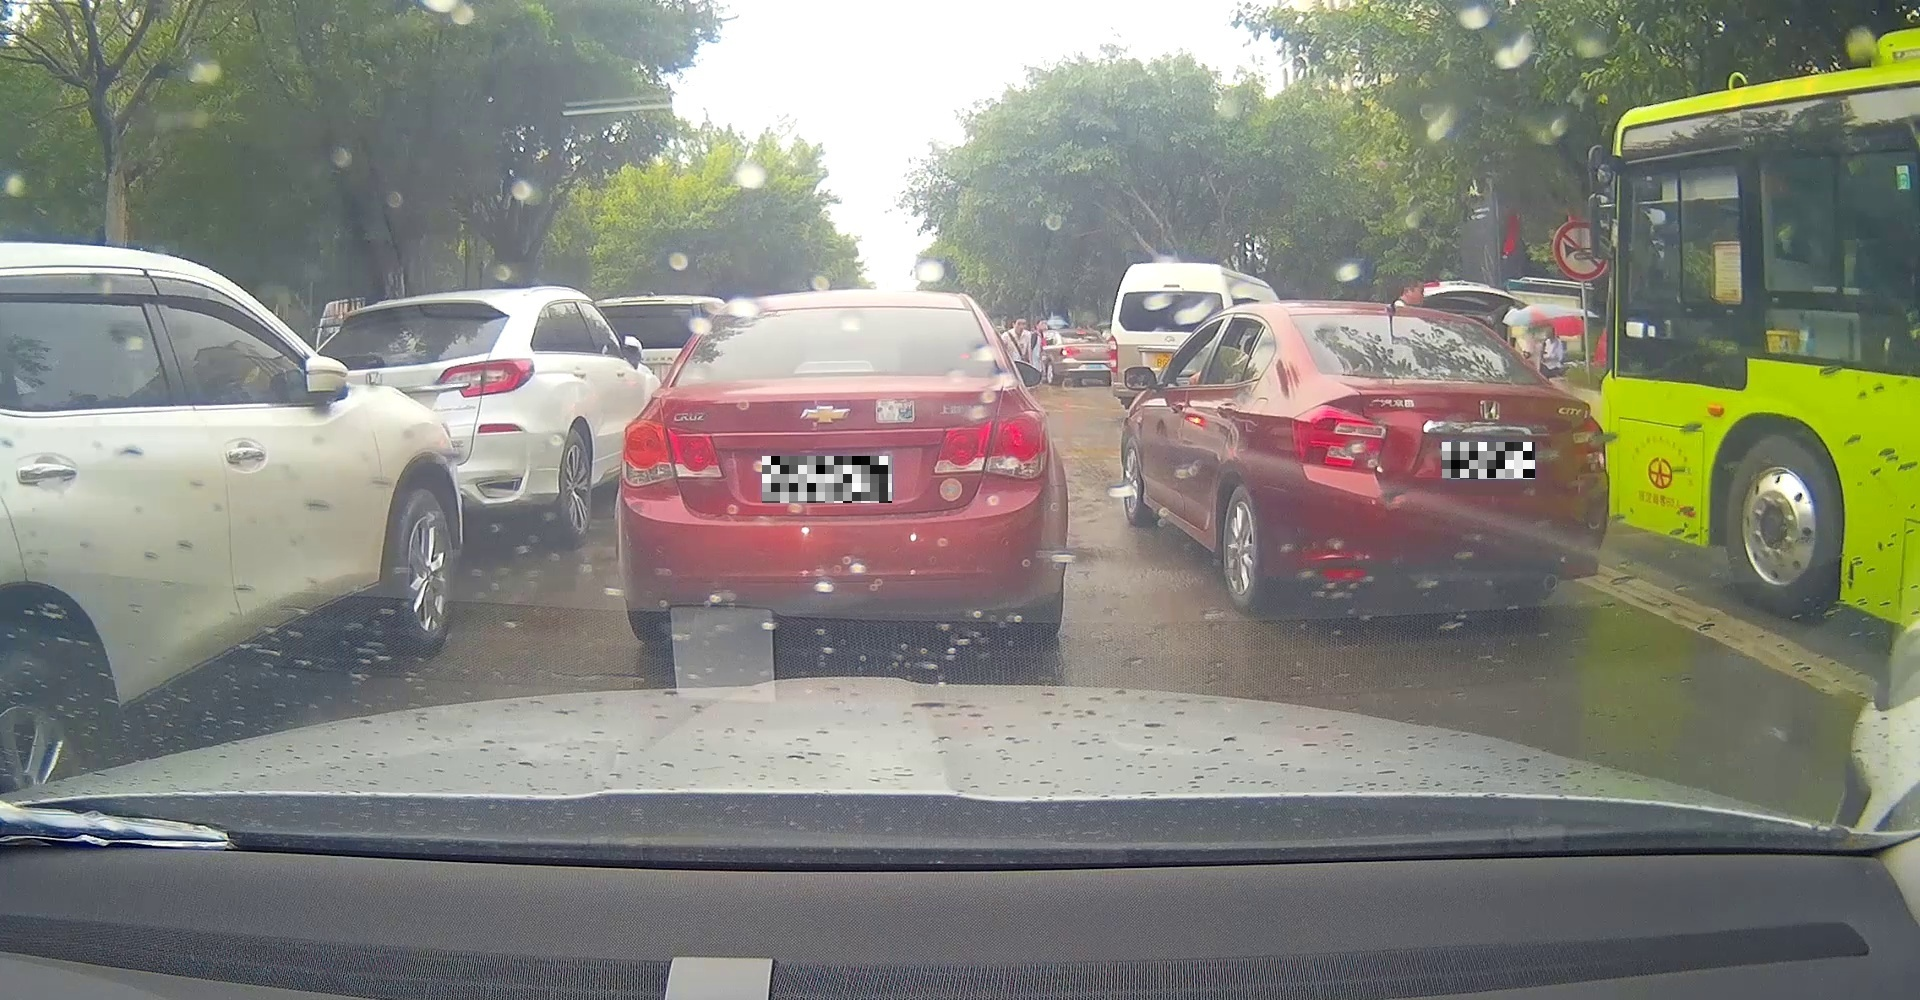L_light: (622, 420, 726, 489), (1291, 404, 1385, 472)
R_light: (935, 410, 1049, 478), (1571, 416, 1608, 473)
T_light: (792, 360, 872, 373), (1420, 369, 1484, 381)
day-no: (612, 291, 1068, 643), (1288, 299, 1610, 621)
plate_1: (762, 456, 891, 503)
plate_2: (1443, 442, 1535, 478)
